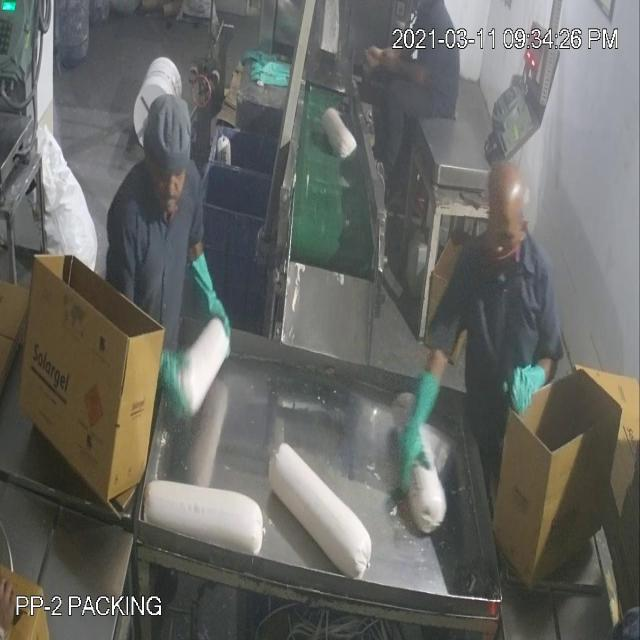gloves: (386, 358, 440, 493), (506, 339, 548, 425)
no-gloves: (369, 36, 429, 92)
